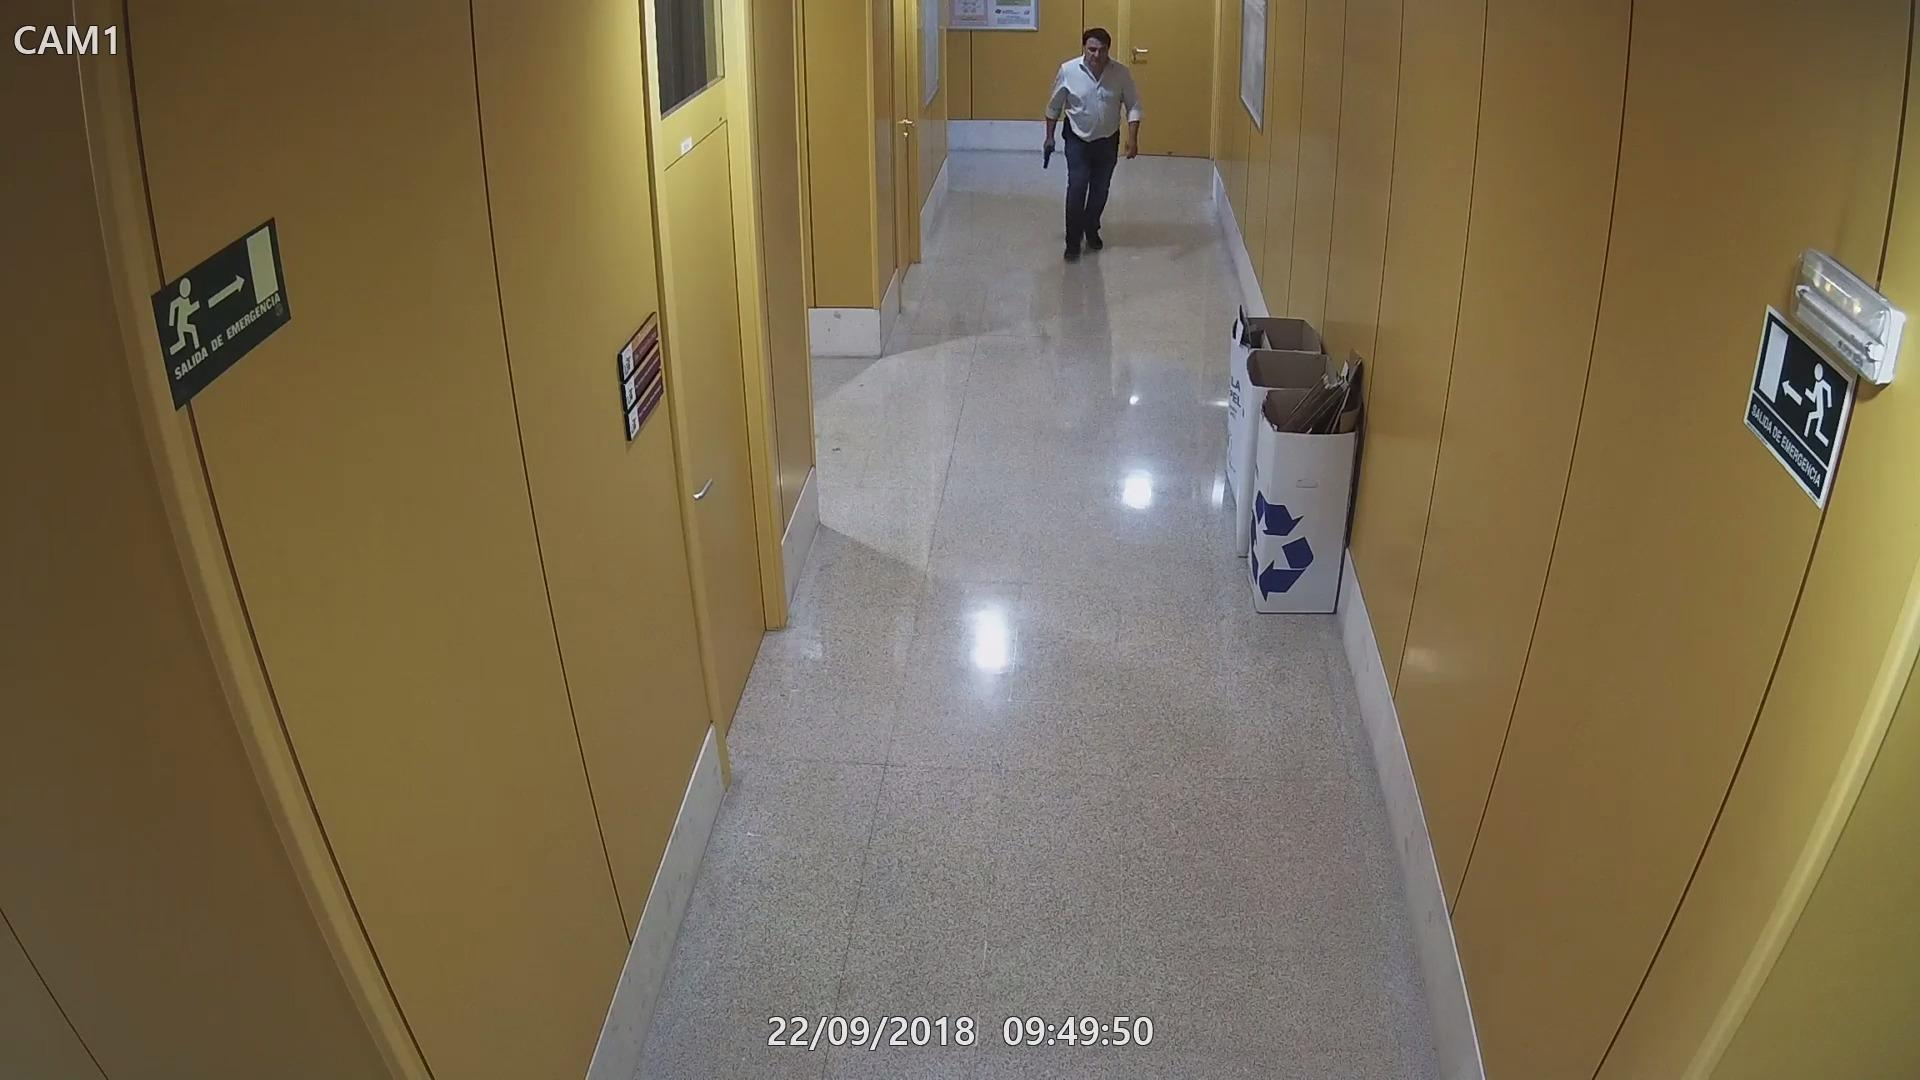Handgun: (1035, 135, 1062, 170)
